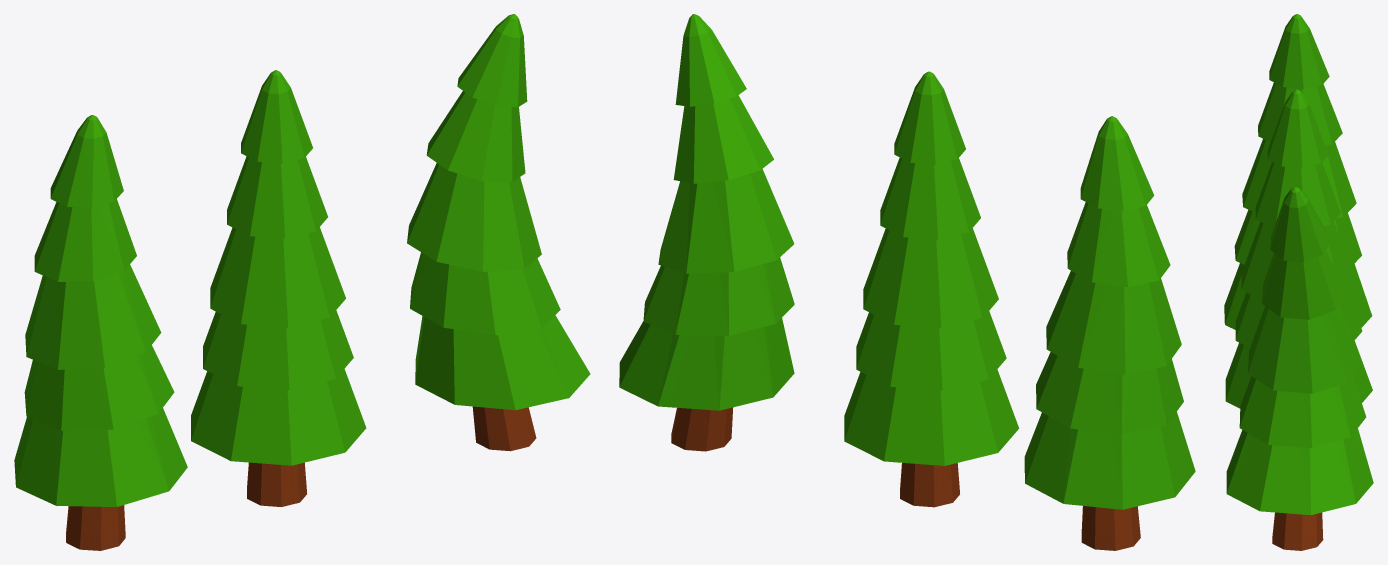
The model's file is trees.dae.
3 views of the same model, side by side, from view 1: azimuth 30°, elevation 25°; view 2: azimuth 150°, elevation 25°; view 3: azimuth 270°, elevation 25° (orthographic). The views are drawn at different scales.
Visible parts, largest first — view 1: tree3.005, tree2.005, tree1.005, tree2.003, tree1.003, tree3.003, tree2.004, tree1.004, tree3.004, tree3.002, tree1.002, tree2.002 (+6 smaller); view 2: tree2.005, tree3.005, tree1.005, tree3.003, tree2.003, tree1.003, tree2.004, tree1.004, tree3.004, tree3.002, tree2.002, tree1.002 (+6 smaller); view 3: tree1.005, tree1.003, tree1.004, tree1.002, tree2.002, tree2.001, tree1.001, tree3.001, tree2.003, tree3.003, tree3.002, tree1 (+4 smaller).
Part boxes in pixels (x1,y1,x2,y2): tree3.005: (14,408,187,506); tree2.005: (191,369,366,465); tree1.005: (415,315,590,410); tree2.003: (210,227,345,327); tree1.003: (407,163,541,271); tree3.003: (25,264,161,369); tree2.004: (203,310,353,389); tree1.004: (410,252,560,335); tree3.004: (24,345,174,430); tree3.002: (34,199,136,281); tree1.002: (426,91,525,181); tree2.002: (227,156,327,238); tree2.005: (844,369,1019,465); tree3.005: (1024,412,1195,509); tree1.005: (619,318,794,410); tree3.003: (1046,270,1181,374); tree2.003: (863,228,998,328); tree1.003: (658,169,794,273); tree2.004: (856,311,1006,390); tree1.004: (643,257,794,335); tree3.004: (1036,352,1183,434); tree3.002: (1067,202,1170,287); tree2.002: (880,157,980,239); tree1.002: (673,95,773,183); tree1.005: (1226,428,1373,515); tree1.003: (1248,305,1361,393); tree1.004: (1239,375,1366,448); tree1.002: (1262,250,1346,319); tree2.002: (1255,162,1340,228); tree2.001: (1267,89,1327,167); tree1.001: (1270,187,1330,262); tree3.001: (1269,14,1329,89); tree2.003: (1241,221,1355,299); tree3.003: (1242,139,1356,218); tree3.002: (1258,82,1342,145); tree1: (1272,512,1323,550).
Bounding box in the file's own units: 11.52 × 3.2 × 8.4.
Materials: 1 (1 with a texture image).
